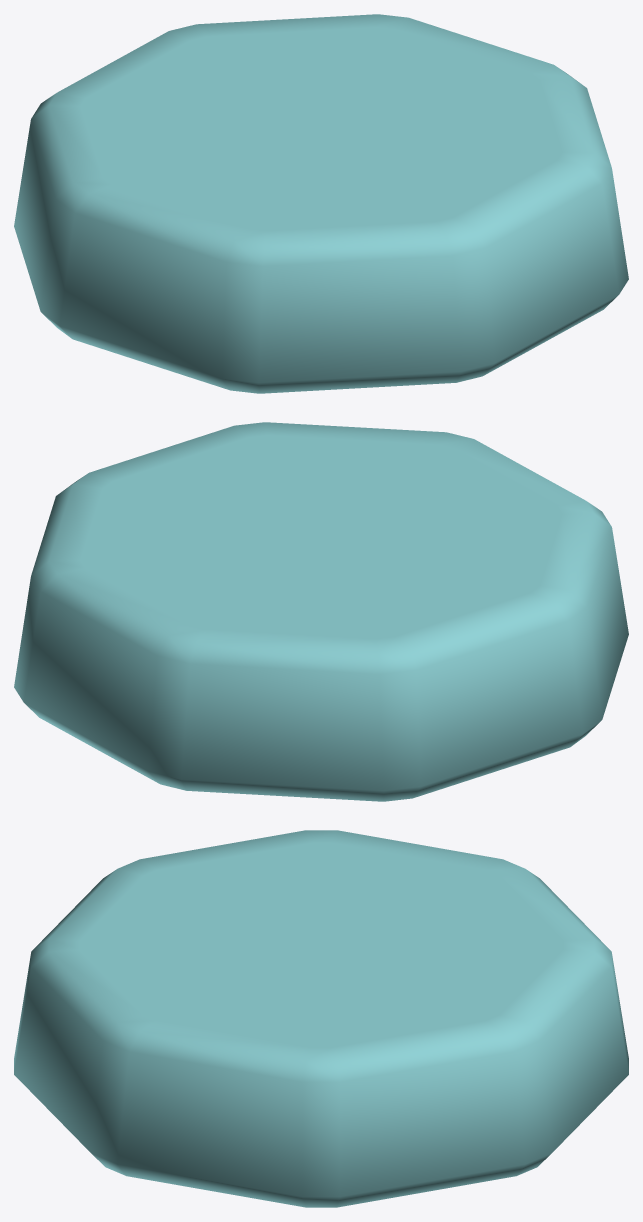
File: rock_modulable_1.fbx
The picture shows the model from 3 angles, top to bottom: view 1: azimuth 30°, elevation 25°; view 2: azimuth 150°, elevation 25°; view 3: azimuth 270°, elevation 25°; orthographic projection.
Visible parts, largest first — view 1: Sphere012; view 2: Sphere012; view 3: Sphere012.
Part boxes in pixels (x1,y1,x2,y2): Sphere012: (14,14,628,393); Sphere012: (14,422,628,801); Sphere012: (14,830,628,1207).
Size of the model in its own units: 30.35 by 7.6 by 30.35.
